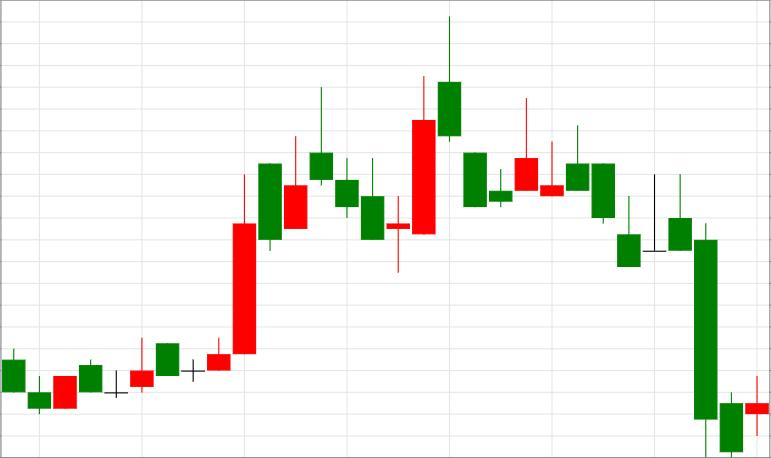shooting_star_fall: (130, 88, 332, 392)
